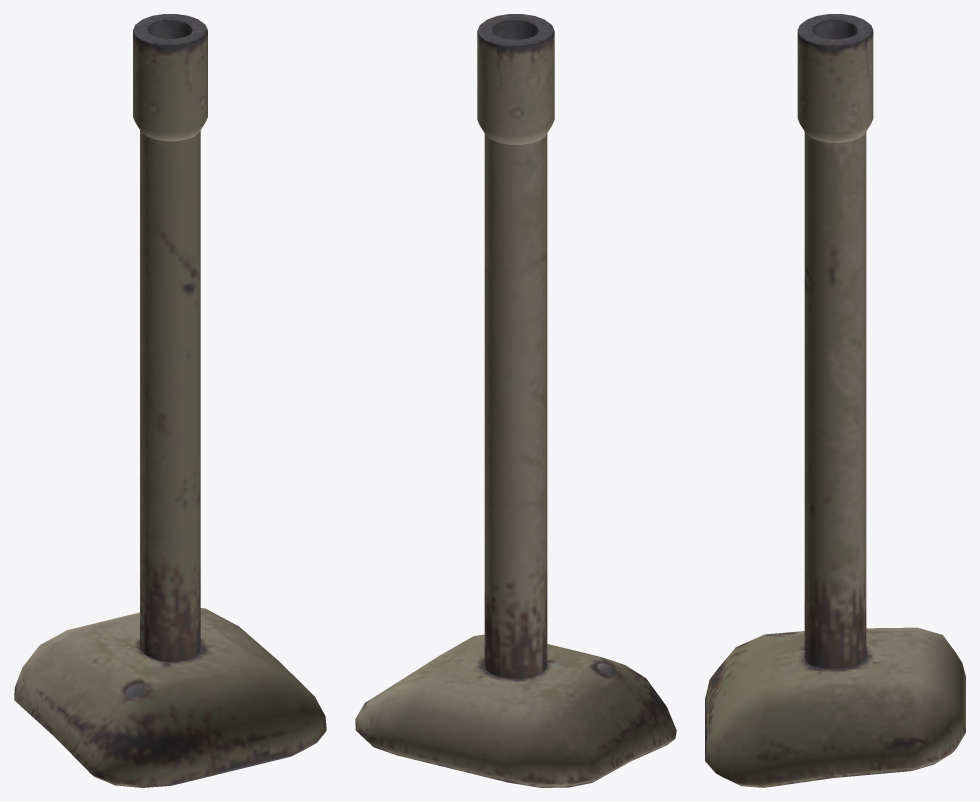
Rendered from Gun_01.glb.
3 views of the same model, side by side, from view 1: azimuth 30°, elevation 25°; view 2: azimuth 150°, elevation 25°; view 3: azimuth 270°, elevation 25° (orthographic). The views are drawn at different scales.
Visible parts, largest first — view 1: set_0_group_0; view 2: set_0_group_0; view 3: set_0_group_0.
Boxes of the visible parts, <box> form: set_0_group_0: <box>14,14,326,787</box>; set_0_group_0: <box>355,14,676,787</box>; set_0_group_0: <box>705,14,965,787</box>.
Bounding box in the file's own units: 0.4653 × 1.32 × 0.4418.
Materials: 1 (1 with a texture image).
